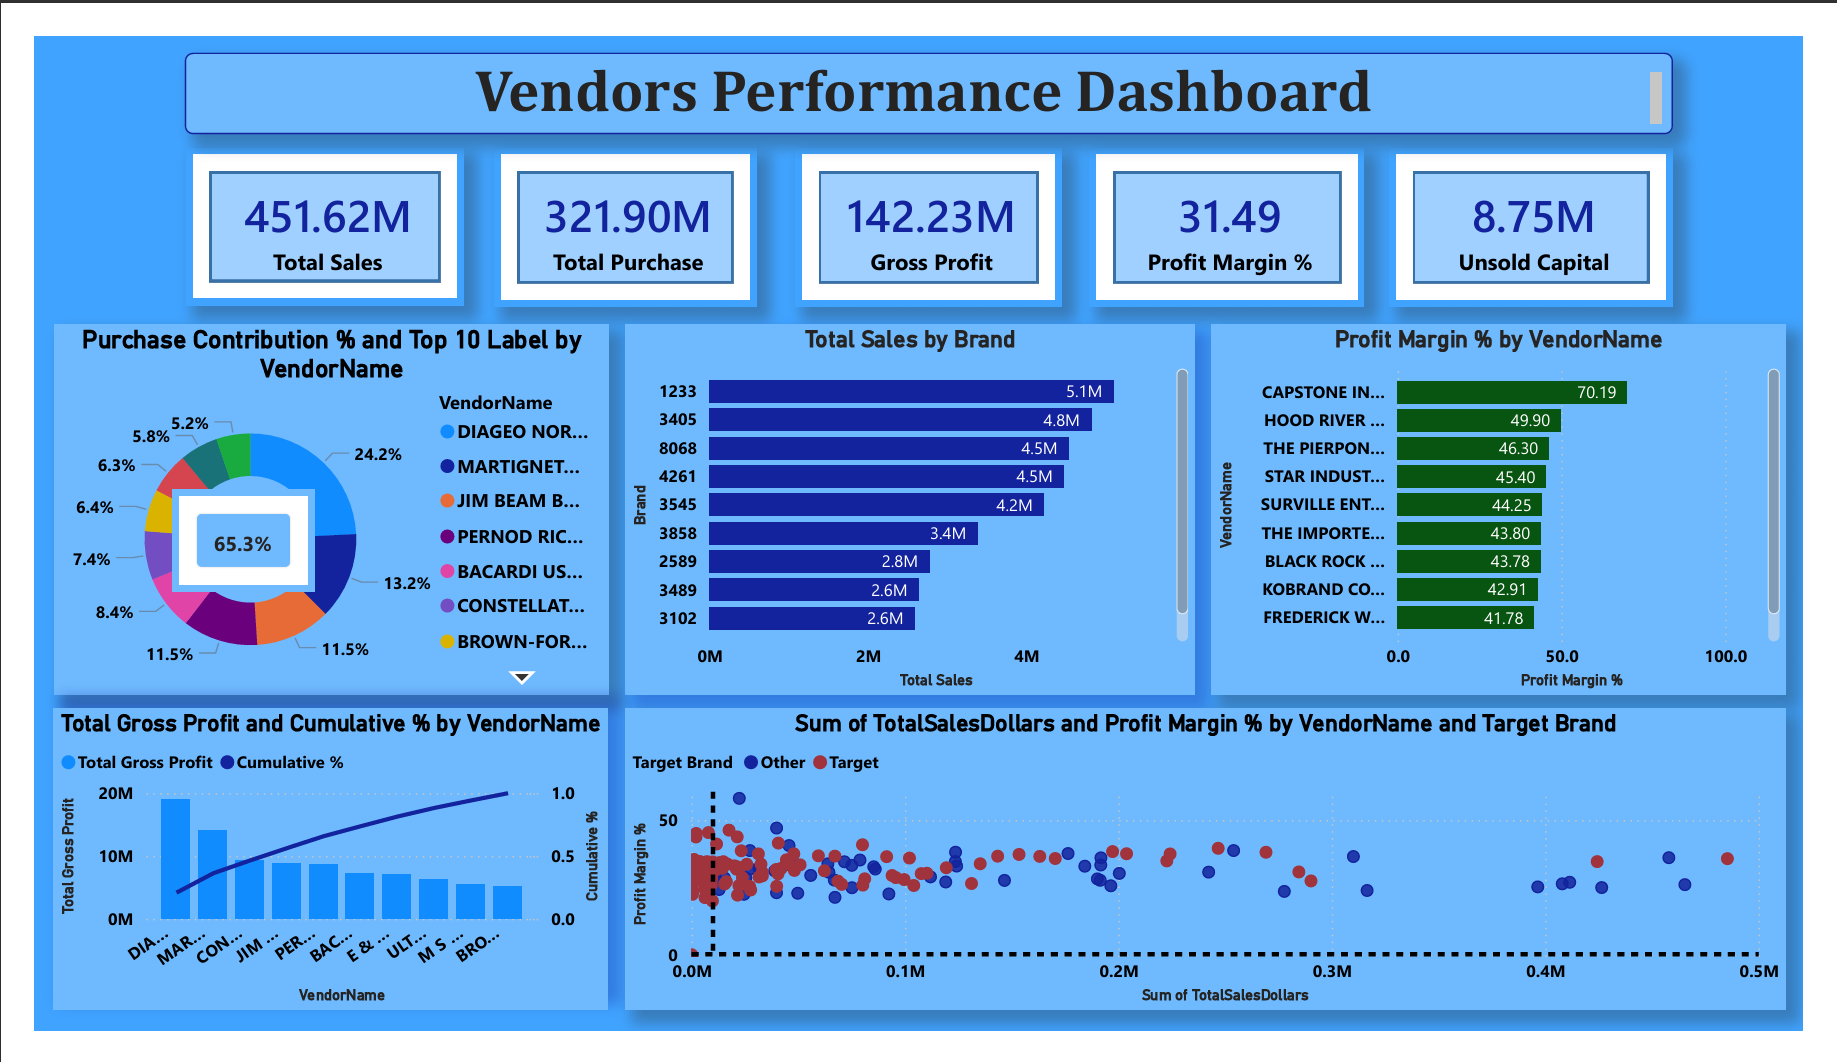

This screenshot's page, from the dashboard's own definition file:
{"tool":"powerbi","page":{"name":"Page 1","canvas":[1280,720],"ordinal":0},"visuals":[{"type":"cardVisual","fields":{"Data":["vendor_sales_summary.Total Sales"]},"box":[109.8,80.8,201.5,114.6],"z":0},{"type":"cardVisual","fields":{"Data":["vendor_sales_summary.Total Purchase"]},"box":[333.3,81.2,189.4,114.4],"z":1000},{"type":"cardVisual","fields":{"Data":["vendor_sales_summary.Gross Profit"]},"box":[551,81.2,193.1,114.4],"z":2000},{"type":"cardVisual","fields":{"Data":["vendor_sales_summary.Profit Margin %"]},"box":[763.7,81.2,199.2,114.4],"z":3000},{"type":"cardVisual","fields":{"Data":["vendor_sales_summary.Unsold Inventory Value"]},"box":[981.4,81.2,204.2,114.4],"z":4000},{"type":"donutChart","fields":{"Category":["vendor_sales_summary.VendorName"],"Y":["vendor_sales_summary.Purchase Contribution %"]},"box":[14.8,209.1,400.9,268.1],"z":5000},{"type":"cardVisual","fields":{"Data":["vendor_sales_summary.Top 10 Label"]},"box":[100.1,328.2,102.5,73.6],"z":6000},{"type":"clusteredBarChart","fields":{"Category":["vendor_sales_summary.Brand"],"Y":["vendor_sales_summary.Total Sales"]},"box":[428.3,208.7,411.4,267.8],"z":7000},{"type":"clusteredBarChart","fields":{"Category":["vendor_sales_summary.VendorName"],"Y":["vendor_sales_summary.Profit Margin %"]},"box":[851.7,208.7,416.2,267.8],"z":8000},{"type":"textbox","box":[109.5,12.3,1076.1,59],"z":9000},{"type":"lineClusteredColumnComboChart","fields":{"Category":["vendor_sales_summary.VendorName"],"Y":["vendor_sales_summary.Total Gross Profit"],"Y2":["vendor_sales_summary.Cumulative %"]},"box":[14.5,487.4,400.5,217.2],"z":9001},{"type":"scatterChart","fields":{"X":["Sum(vendor_sales_summary.TotalSalesDollars)"],"Y":["vendor_sales_summary.Profit Margin %"],"Category":["vendor_sales_summary.VendorName"],"Series":["vendor_sales_summary.Target Brand"]},"box":[428.3,487.4,839.7,217.2],"z":9002}]}

Visuals, with their boxes in screenshot pixels (x1, y1, x2, y2), scaled from the page's 1280x720 canvas onto the 1837x1062 screenshot:
cardVisual - vendor_sales_summary.Total Sales: 158, 119, 447, 288
cardVisual - vendor_sales_summary.Total Purchase: 478, 120, 750, 289
cardVisual - vendor_sales_summary.Gross Profit: 791, 120, 1068, 289
cardVisual - vendor_sales_summary.Profit Margin %: 1096, 120, 1382, 289
cardVisual - vendor_sales_summary.Unsold Inventory Value: 1408, 120, 1702, 289
donutChart - vendor_sales_summary.VendorName x vendor_sales_summary.Purchase Contribution %: 21, 308, 597, 704
cardVisual - vendor_sales_summary.Top 10 Label: 144, 484, 291, 593
clusteredBarChart - vendor_sales_summary.Brand x vendor_sales_summary.Total Sales: 615, 308, 1205, 703
clusteredBarChart - vendor_sales_summary.VendorName x vendor_sales_summary.Profit Margin %: 1222, 308, 1820, 703
textbox: 157, 18, 1702, 105
lineClusteredColumnComboChart - vendor_sales_summary.VendorName x vendor_sales_summary.Total Gross Profit: 21, 719, 596, 1039
scatterChart - Sum(vendor_sales_summary.TotalSalesDollars) x vendor_sales_summary.Profit Margin %: 615, 719, 1820, 1039
